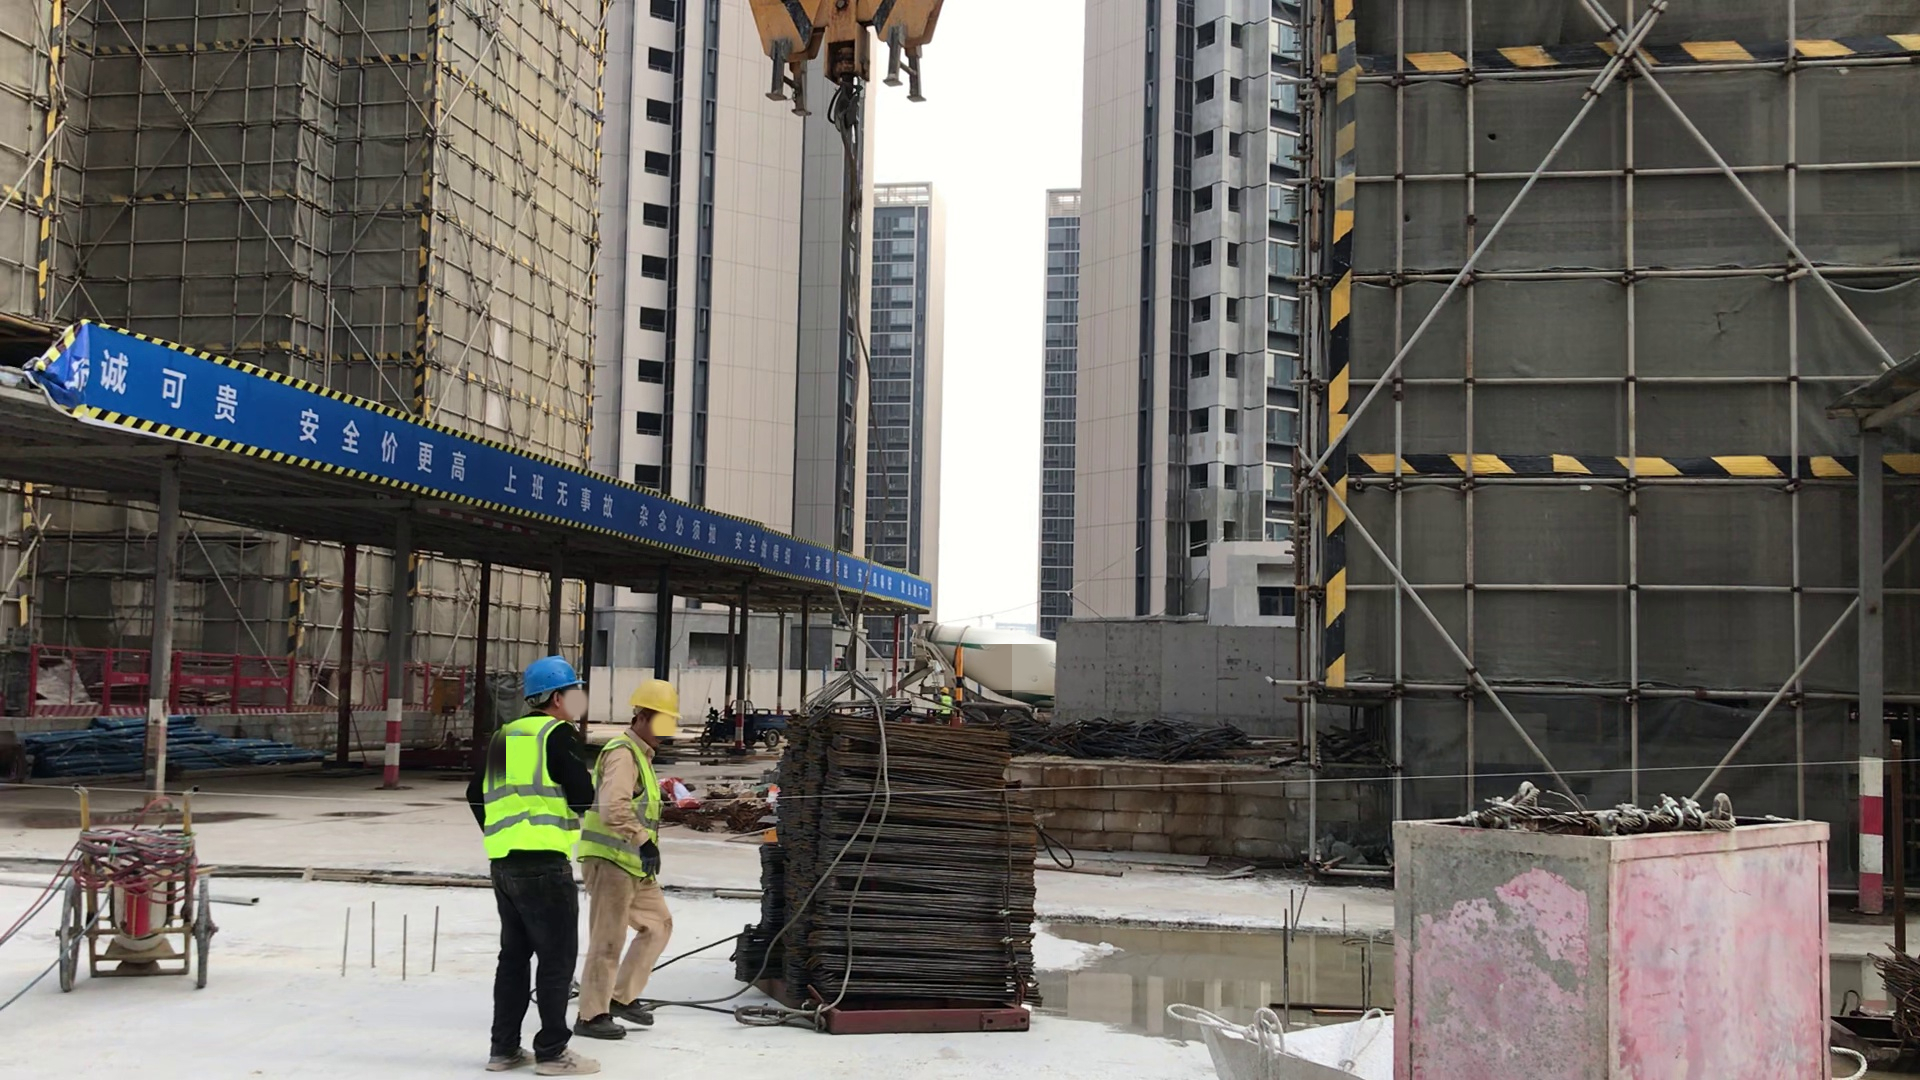ebox: (431, 672, 462, 711)
fence: (71, 648, 472, 711)
helmet: (627, 671, 682, 725), (516, 659, 585, 699), (939, 685, 951, 695)
hook: (739, 1, 944, 144)
hopper: (1170, 991, 1395, 1080)
person: (476, 656, 597, 1080), (593, 671, 686, 1045), (933, 681, 954, 724)
slogan: (71, 323, 307, 459), (633, 498, 858, 584), (300, 400, 470, 492), (489, 458, 635, 522)
vest: (483, 717, 582, 866), (596, 734, 662, 877), (939, 694, 952, 714)
